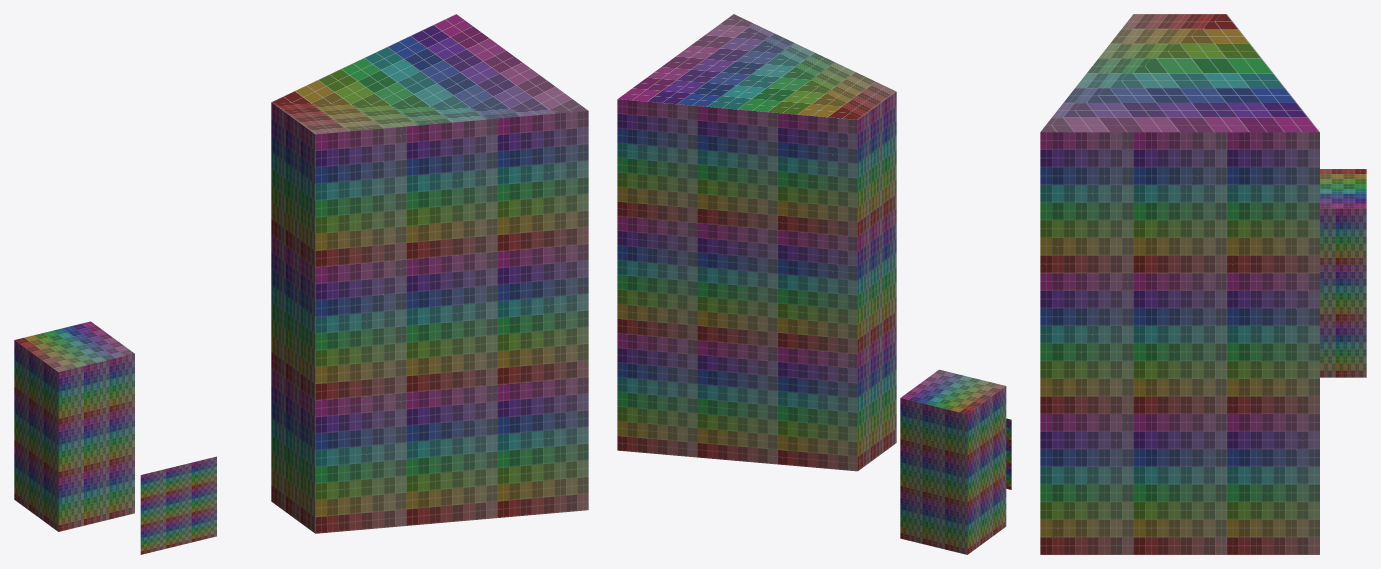
The model's file is building2.obj.
3 renders of one model, left to right at view 1: azimuth 30°, elevation 25°; view 2: azimuth 150°, elevation 25°; view 3: azimuth 270°, elevation 25°, orthographic. The views are drawn at different scales.
Visible parts, largest first — view 1: tile, roof; view 2: tile, roof; view 3: tile, roof.
Part boxes in pixels (x1,y1,x2,y2): tile: (14,102,588,554); roof: (15,14,587,372); tile: (617,92,1011,554); roof: (617,14,1005,414); tile: (1040,132,1366,554); roof: (1040,14,1366,208).
Size of what is drawn, in the model's own units: 11 by 10 by 7.
